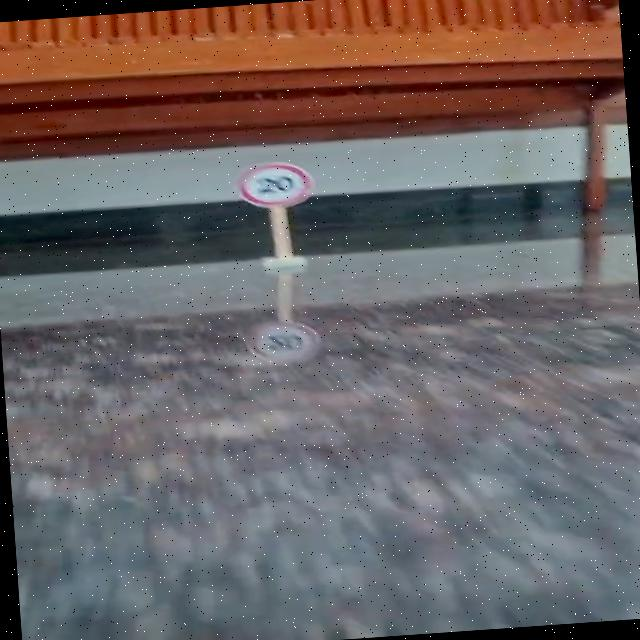Speed20: (230, 155, 320, 215)
